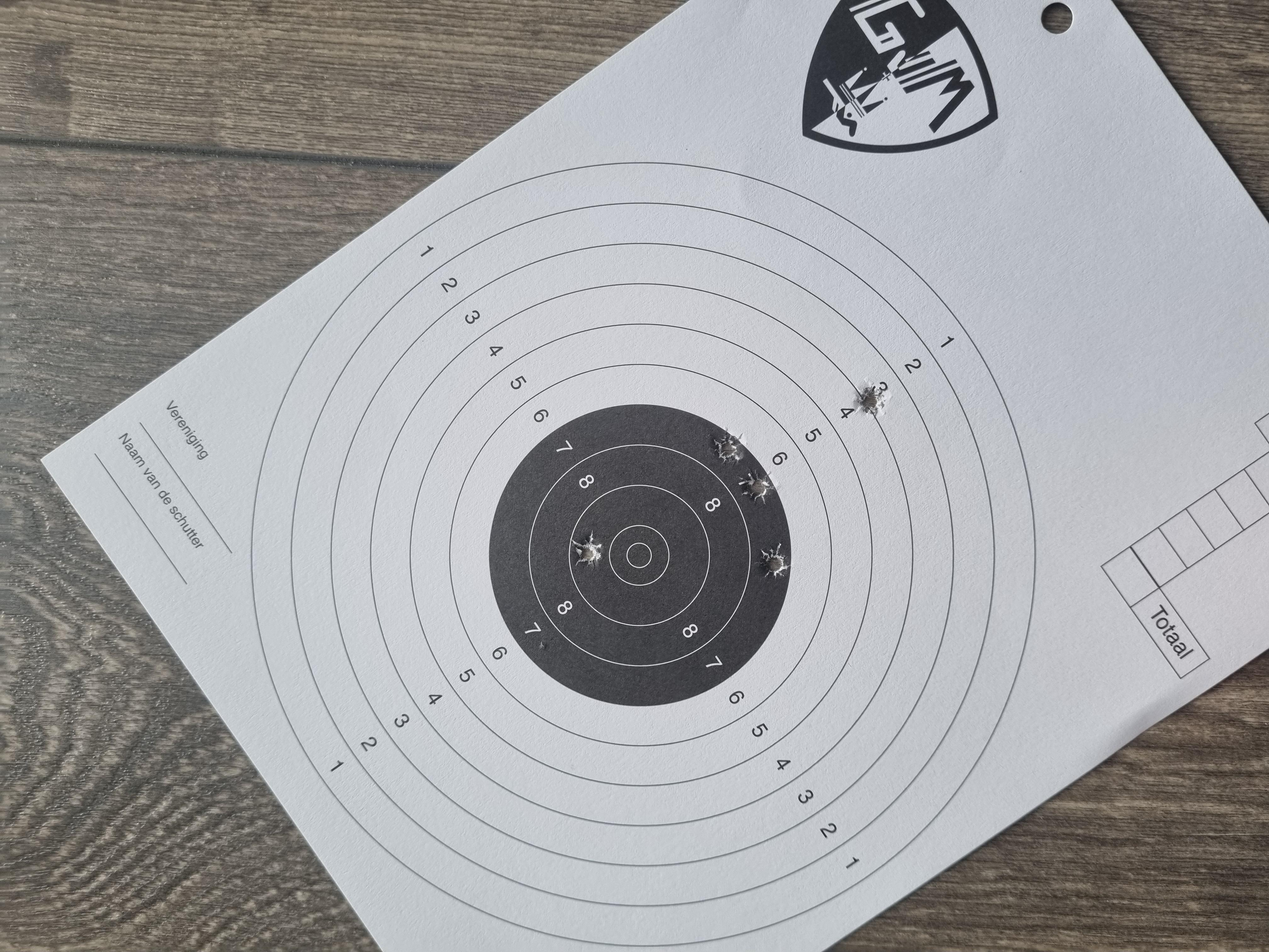hole: (713, 642, 764, 668), (598, 555, 645, 582), (511, 428, 558, 452), (653, 535, 699, 558), (499, 570, 545, 592)
